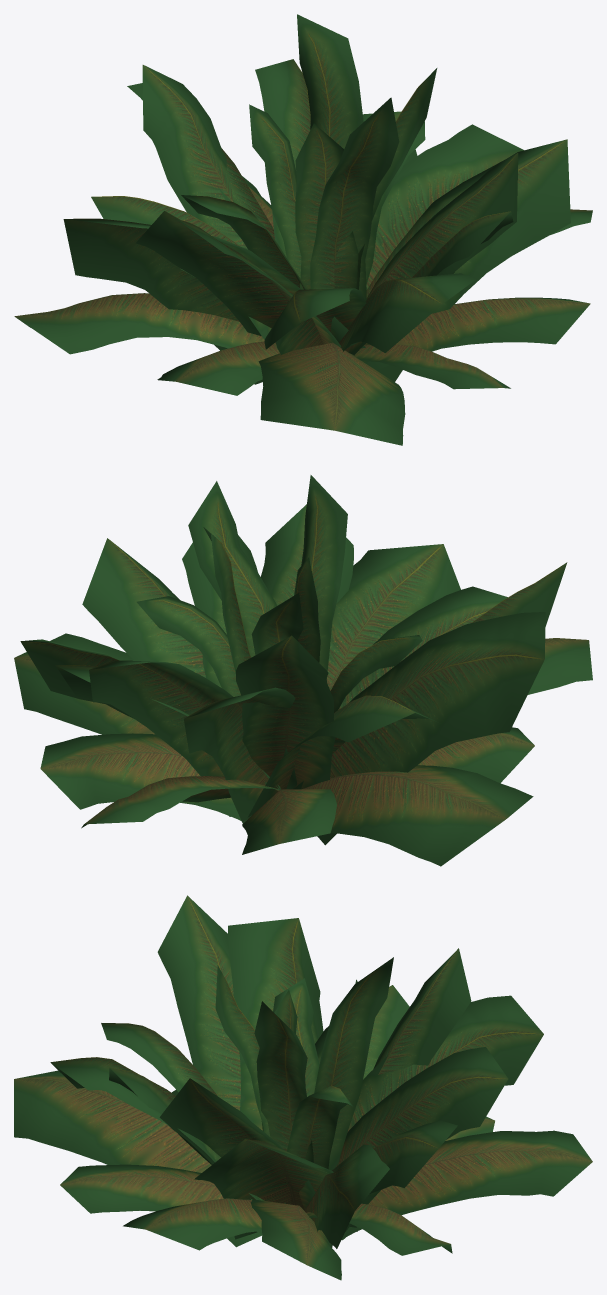
Rendered from Fern_1_L0.fbx.
3 renders of one model, top to bottom at view 1: azimuth 30°, elevation 25°; view 2: azimuth 150°, elevation 25°; view 3: azimuth 270°, elevation 25°, orthographic. The views are drawn at different scales.
Visible parts, largest first — view 1: polySurface1; view 2: polySurface1; view 3: polySurface1.
Boxes of the visible parts, x1=… form: polySurface1: x1=14, y1=14, x2=592, y2=445; polySurface1: x1=14, y1=475, x2=592, y2=866; polySurface1: x1=14, y1=895, x2=592, y2=1280.
Size of the model in its own units: 350 by 202 by 362.
